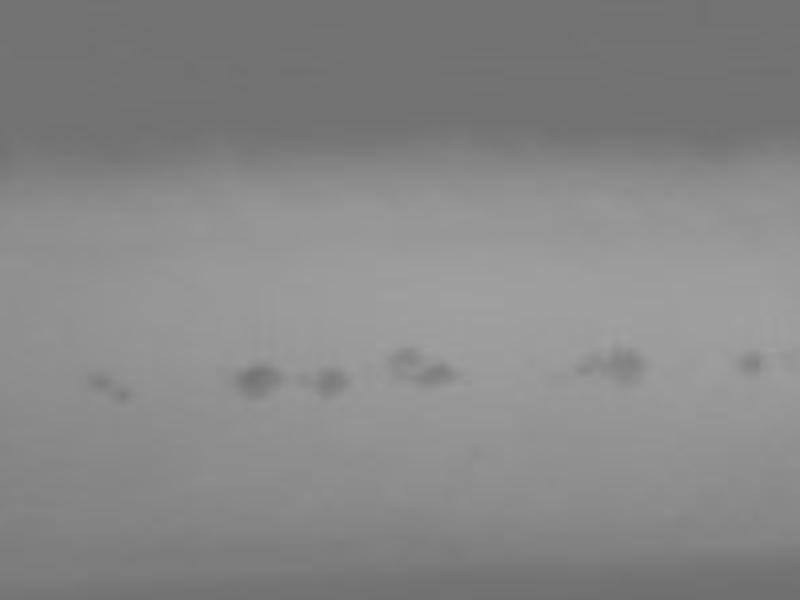defect: (602, 348, 647, 389), (240, 365, 280, 400), (319, 365, 354, 401), (382, 346, 426, 373), (416, 365, 458, 392), (738, 349, 768, 377), (580, 354, 604, 378), (89, 371, 112, 393), (295, 365, 311, 386), (118, 390, 132, 400)
